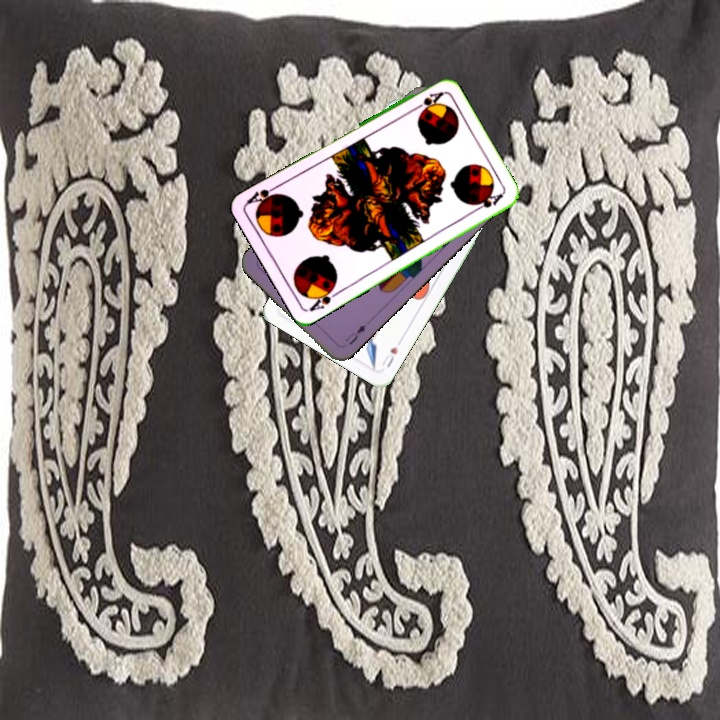EU: (341, 320, 369, 348)
HU: (378, 336, 404, 370)
SA: (306, 282, 342, 314), (408, 88, 445, 115)
